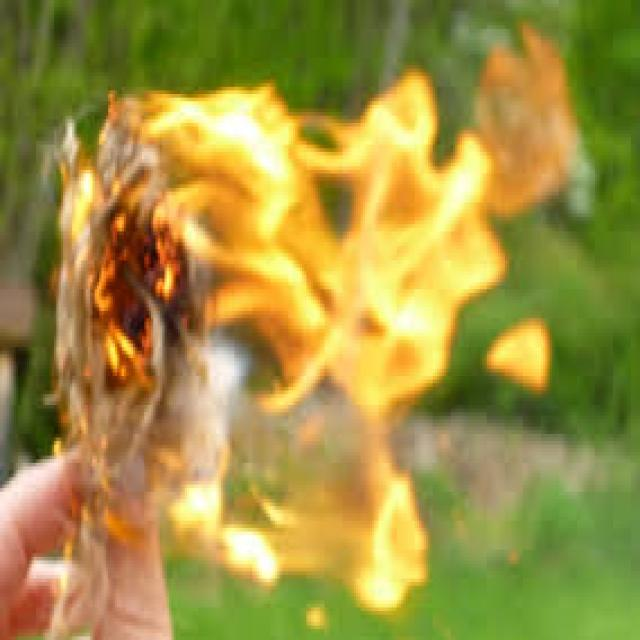Fire: (50, 42, 541, 640)
